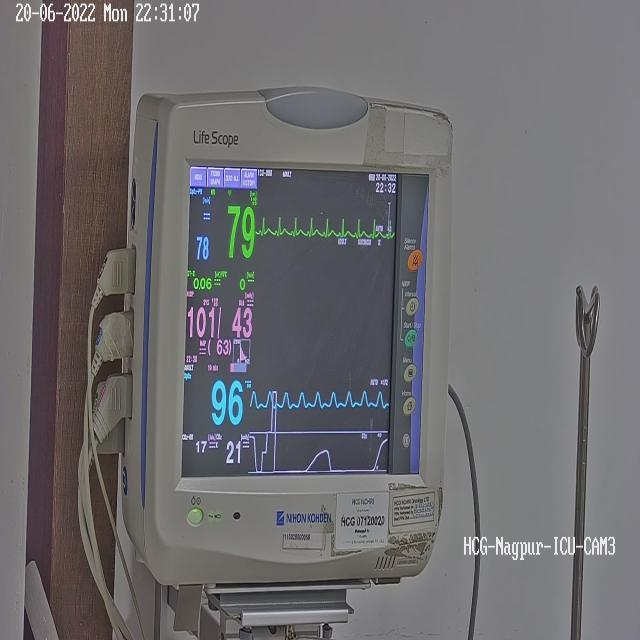Monitor: (118, 86, 454, 600)
Saline Stand: (529, 251, 640, 640)
